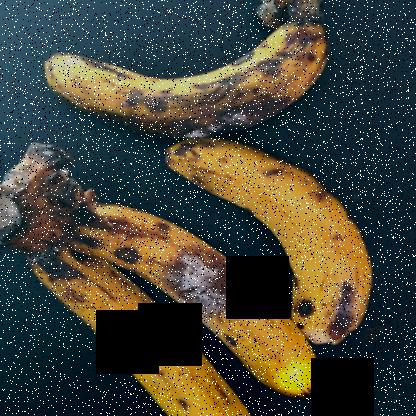overripe: (74, 206, 336, 395), (158, 134, 382, 340), (6, 248, 254, 416)
rotten: (38, 14, 339, 165)
